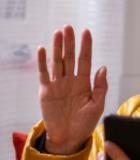down: (34, 22, 111, 140)
